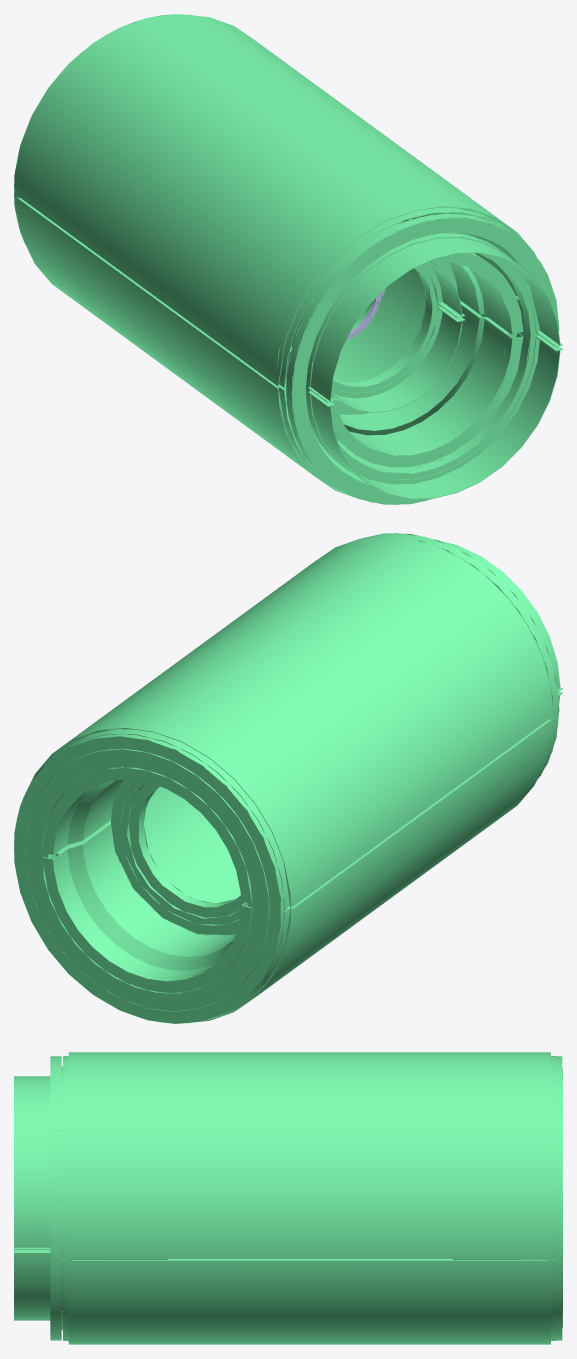
File: its.glb
3 renders of one model, top to bottom at view 1: azimuth 30°, elevation 25°; view 2: azimuth 150°, elevation 25°; view 3: azimuth 270°, elevation 25°, orthographic. The views are drawn at different scales.
Parts seen in each view (by area): view 1: OBCYSS12_1.001, OBCYSS12_2.001, OBCYSS13_1.001, OBConeSideA_2.001, OBEndWheelAOuterRing6_1.001, OBConeTray1_1.001, OBConeTray1_2.001, OBCYSS14_2.001, object 1, OBConeTray0_1.001, OBConeSideA_1.001, OBEndWheelAOuterRing5_1.001 (+7 smaller); view 2: OBCYSS12_1.001, object 1, OBCYSS12_2.001, OBConeSideC_2.001, OBCYSS13_1.001, OBCYSS14_2.001, OBConeSideC_1.001, OBCYSS14_1.001, OBEndWheelAUpperRing6_1.001, OBEndWheelCUpperRing6_1.001, OBConeTray1_2.001, OBCYSS13_2.001 (+1 smaller); view 3: OBCYSS12_1.001, OBCYSS12_2.001, OBCYSS13_2.001, OBCYSS13_1.001, OBConeTray1_2.001, OBEndWheelAUpperRing6_1.001, OBConeTray1_1.001, OBCYSS14_1.001, OBCYSS14_2.001, OBEndWheelCUpperRing6_1.001, OBCYSS20_3.001, object 1.
Part boxes in pixels (x1,y1,x2,y2): OBCYSS12_1.001: [16, 14, 535, 386]; OBCYSS12_2.001: [16, 197, 355, 497]; OBCYSS13_1.001: [23, 18, 522, 373]; OBConeSideA_2.001: [285, 304, 523, 467]; OBEndWheelAOuterRing6_1.001: [291, 218, 559, 504]; OBConeTray1_1.001: [311, 337, 560, 499]; OBConeTray1_2.001: [310, 238, 560, 401]; OBCYSS14_2.001: [16, 195, 523, 485]; object 1: [14, 14, 530, 485]; OBConeTray0_1.001: [332, 308, 462, 412]; OBConeSideA_1.001: [291, 221, 523, 346]; OBEndWheelAOuterRing5_1.001: [309, 236, 539, 479]; OBCYSS12_1.001: [23, 536, 552, 907]; object 1: [14, 736, 287, 1023]; OBCYSS12_2.001: [199, 718, 552, 1021]; OBConeSideC_2.001: [42, 824, 252, 992]; OBCYSS13_1.001: [44, 539, 548, 874]; OBCYSS14_2.001: [49, 716, 553, 1007]; OBConeSideC_1.001: [42, 767, 252, 903]; OBCYSS14_1.001: [42, 538, 553, 909]; OBEndWheelAUpperRing6_1.001: [363, 533, 558, 779]; OBEndWheelCUpperRing6_1.001: [61, 734, 286, 996]; OBConeTray1_2.001: [441, 541, 560, 689]; OBCYSS13_2.001: [226, 750, 545, 1012]; OBCYSS12_1.001: [68, 1052, 550, 1258]; OBCYSS12_2.001: [68, 1261, 550, 1344]; OBCYSS13_2.001: [75, 1269, 544, 1343]; OBCYSS13_1.001: [75, 1054, 544, 1231]; OBConeTray1_2.001: [14, 1076, 50, 1247]; OBEndWheelAUpperRing6_1.001: [51, 1056, 60, 1340]; OBConeTray1_1.001: [14, 1253, 50, 1320]; OBCYSS14_1.001: [63, 1056, 556, 1257]; OBCYSS14_2.001: [63, 1259, 556, 1340]; OBEndWheelCUpperRing6_1.001: [552, 1056, 561, 1340]; OBCYSS20_3.001: [72, 1260, 547, 1261]; object 1: [551, 1056, 562, 1340].
Size of the model in its own units: 92.2 by 92.2 by 173.
